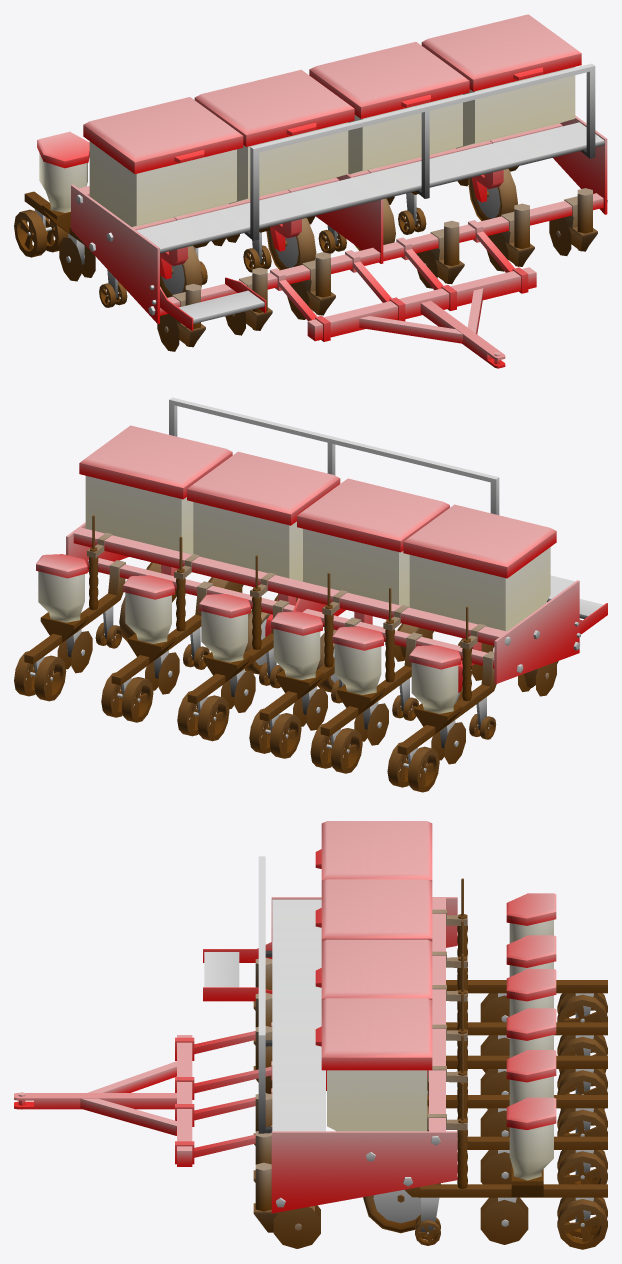
Rendered from Planter.FBX.
3 views of the same model, one above another, from view 1: azimuth 30°, elevation 25°; view 2: azimuth 150°, elevation 25°; view 3: azimuth 270°, elevation 25° (orthographic). The views are drawn at different scales.
Visible parts, largest first — view 1: Planter; view 2: Planter; view 3: Planter.
Boxes of the visible parts, x1=… form: Planter: x1=14, y1=14, x2=607, y2=368; Planter: x1=14, y1=397, x2=607, y2=792; Planter: x1=14, y1=821, x2=607, y2=1249.
Bounding box in the file's own units: 851 × 356 × 896.
Materials: 1 (1 with a texture image).
